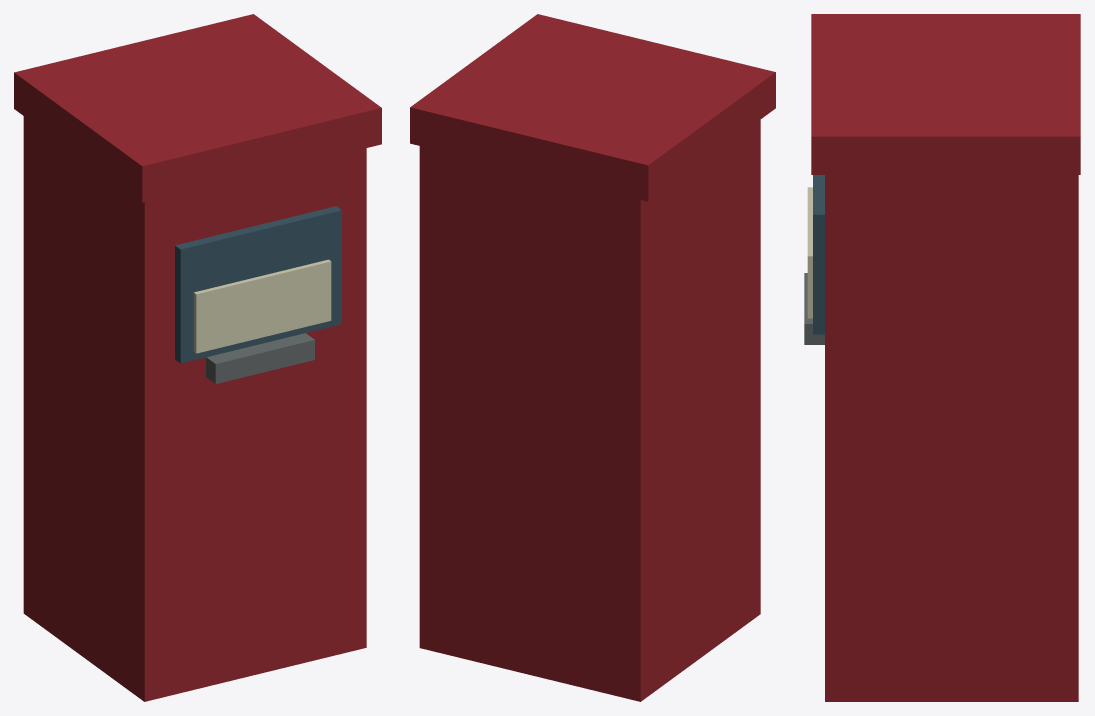
File: news.glb
3 renders of one model, left to right at view 1: azimuth 30°, elevation 25°; view 2: azimuth 150°, elevation 25°; view 3: azimuth 270°, elevation 25°, orthographic. The views are drawn at different scales.
Parts seen in each view (by area): view 1: news; view 2: news; view 3: news.
Part boxes in pixels (x1,y1,x2,y2): news: (14,14,381,701); news: (410,14,775,701); news: (804,14,1080,701).
Bounding box in the file's own units: 0.55 × 1.19 × 0.523.
